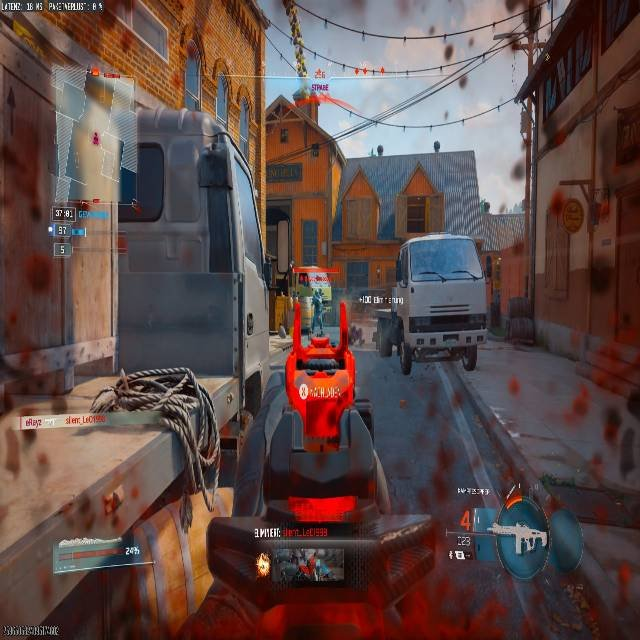player: (310, 286, 326, 333), (349, 324, 363, 347)
